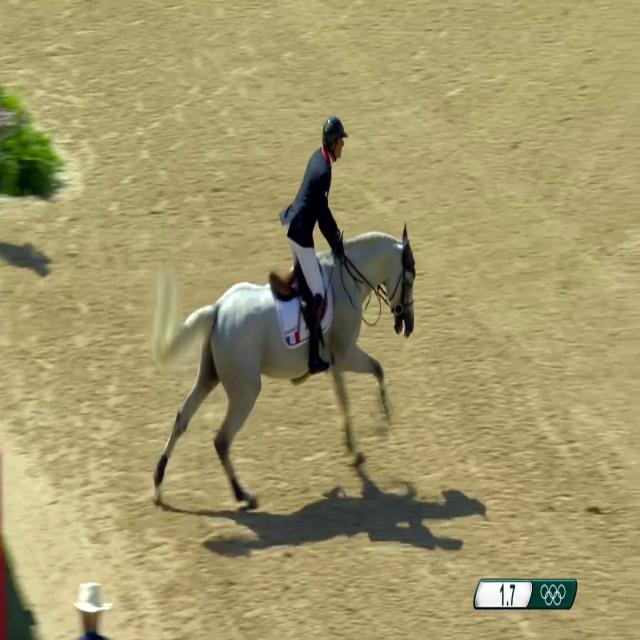Horse Rider: (279, 70, 353, 387)
Horse Running: (145, 222, 421, 528)
